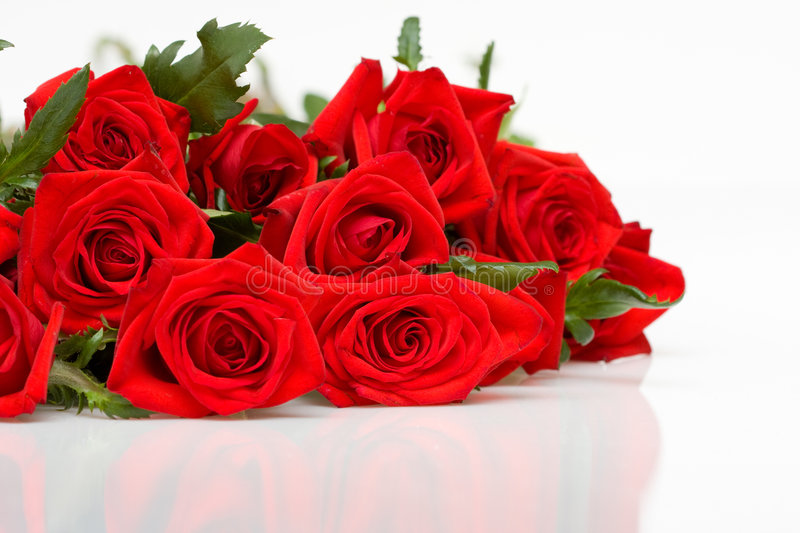RedRose: (304, 250, 506, 395), (14, 182, 198, 312), (335, 75, 505, 202), (34, 71, 187, 197), (277, 169, 436, 288), (149, 265, 295, 388), (196, 133, 294, 223)
